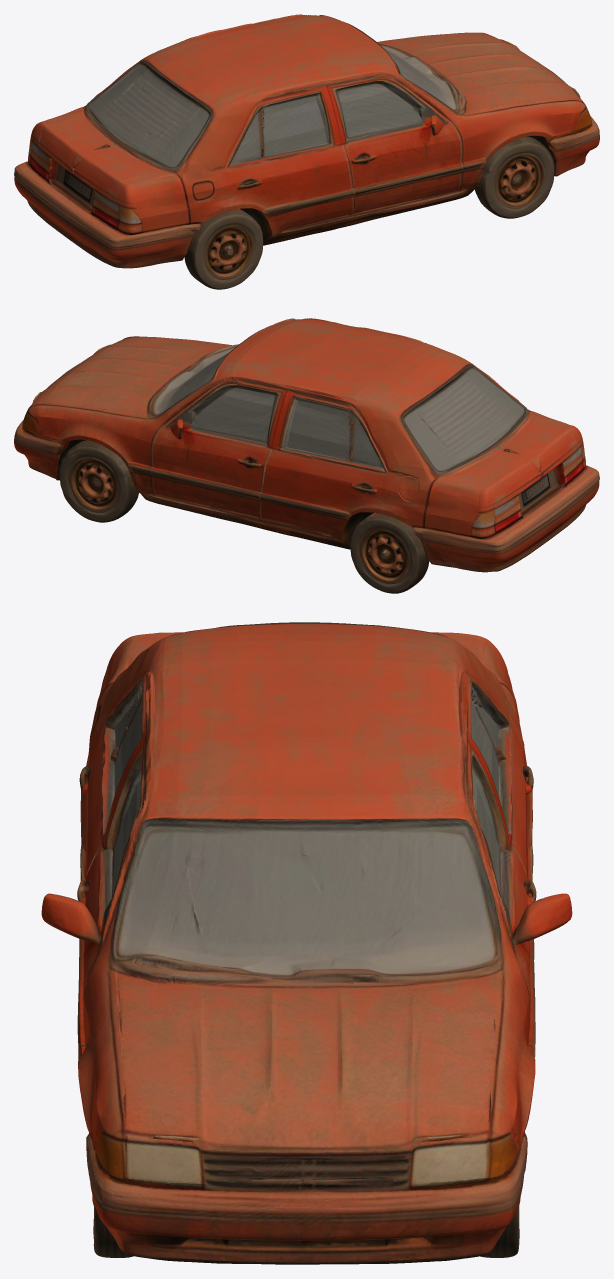
Rendered from tripo_convert_12e1b7b6-fa1a-4df7-90dc-e008f01d9f30.obj.
3 renders of one model, top to bottom at view 1: azimuth 30°, elevation 25°; view 2: azimuth 150°, elevation 25°; view 3: azimuth 270°, elevation 25°, orthographic. The views are drawn at different scales.
Visible parts, largest first — view 1: tripo_node_12e1b7b6-fa1a-4df7-90dc-e008f01d9f30; view 2: tripo_node_12e1b7b6-fa1a-4df7-90dc-e008f01d9f30; view 3: tripo_node_12e1b7b6-fa1a-4df7-90dc-e008f01d9f30.
Boxes of the visible parts, x1,y1,x2,y2 form: tripo_node_12e1b7b6-fa1a-4df7-90dc-e008f01d9f30: (14,14,599,289); tripo_node_12e1b7b6-fa1a-4df7-90dc-e008f01d9f30: (14,318,599,593); tripo_node_12e1b7b6-fa1a-4df7-90dc-e008f01d9f30: (41,622,572,1264).
Bounding box in the file's own units: 1 × 0.3352 × 0.4553.
Materials: 1 (1 with a texture image).
